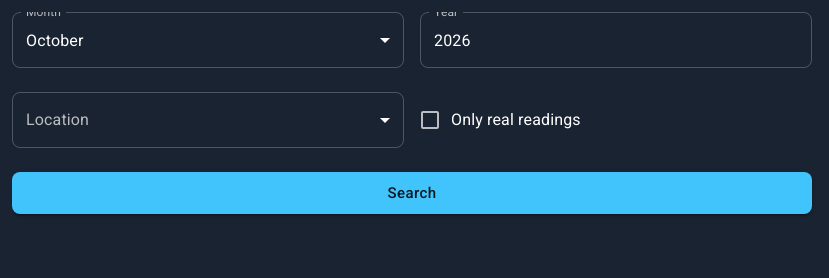
Scenario: RainlogFilters › Validation › shows validation error for year below 1970
The width and height of the screenshot is (829, 278).
Replace the text in the number field labelled "Year" with "1969" at {"x": 616, "y": 40}, box [420,12,812,68]
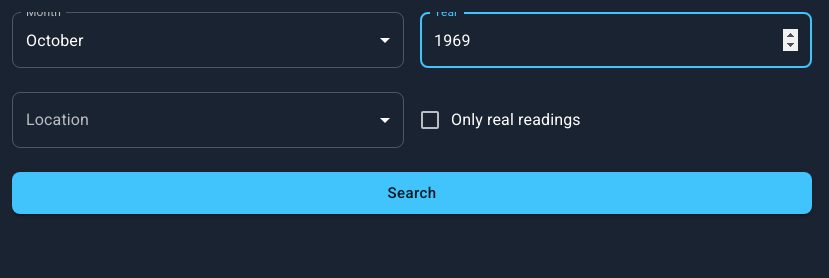
Click the button "Search" at {"x": 412, "y": 193}, box [12,172,812,214]
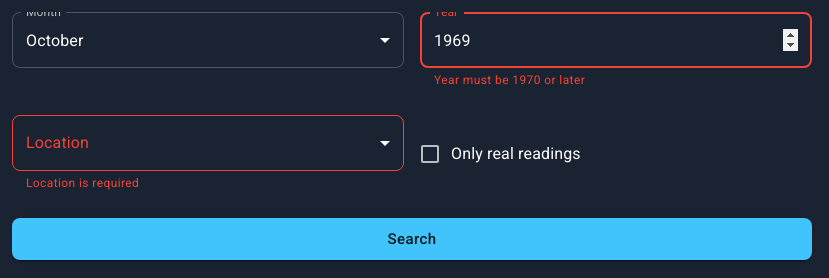
Result: the text "Year must be 1970 or later" is shown at [434,73,585,87]
